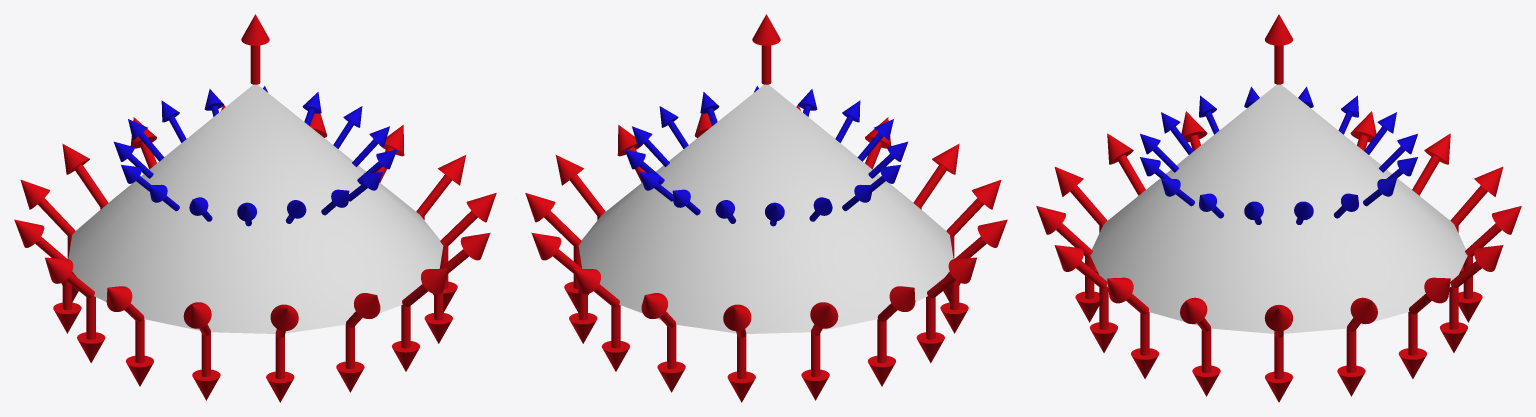
File: cone-unsplit.glb
3 views of the same model, side by side, from view 1: azimuth 30°, elevation 25°; view 2: azimuth 150°, elevation 25°; view 3: azimuth 270°, elevation 25° (orthographic).
Visible parts, largest first — view 1: Cube.005; view 2: Cube.005; view 3: Cube.005.
Boxes of the visible parts, left/top/right/bottom form: Cube.005: left=14, top=14, right=496, bottom=402; Cube.005: left=525, top=14, right=1007, bottom=402; Cube.005: left=1036, top=14, right=1521, bottom=402.
Size of the model in its own units: 2.57 by 1.8 by 2.57.
